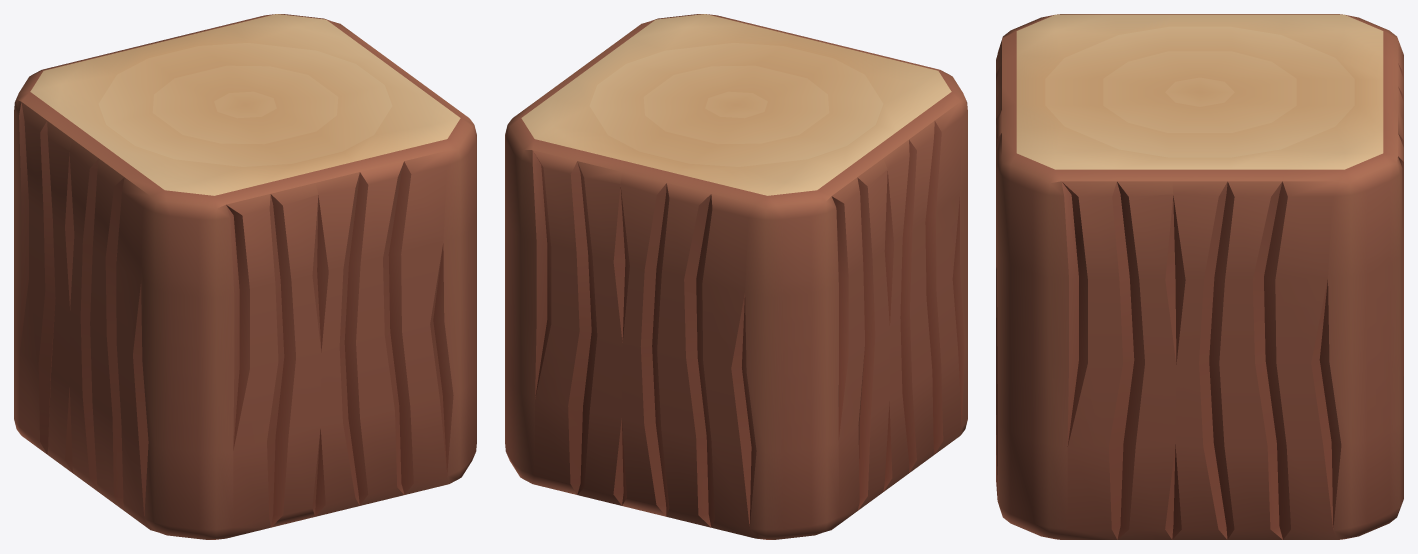
Rendered from wood.glb.
3 renders of one model, left to right at view 1: azimuth 30°, elevation 25°; view 2: azimuth 150°, elevation 25°; view 3: azimuth 270°, elevation 25°, orthographic. The views are drawn at different scales.
Parts seen in each view (by area): view 1: wood; view 2: wood; view 3: wood.
Boxes of the visible parts, bbox=[...] form: wood: bbox=[14, 14, 476, 539]; wood: bbox=[505, 14, 967, 539]; wood: bbox=[996, 14, 1403, 539].
Bounding box in the file's own units: 2 × 2 × 2.
1 material, 1 textured.
